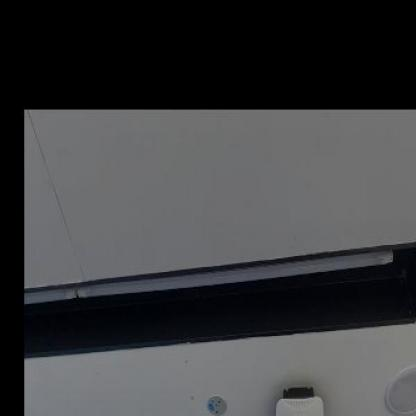light_off: (24, 167, 402, 344)
